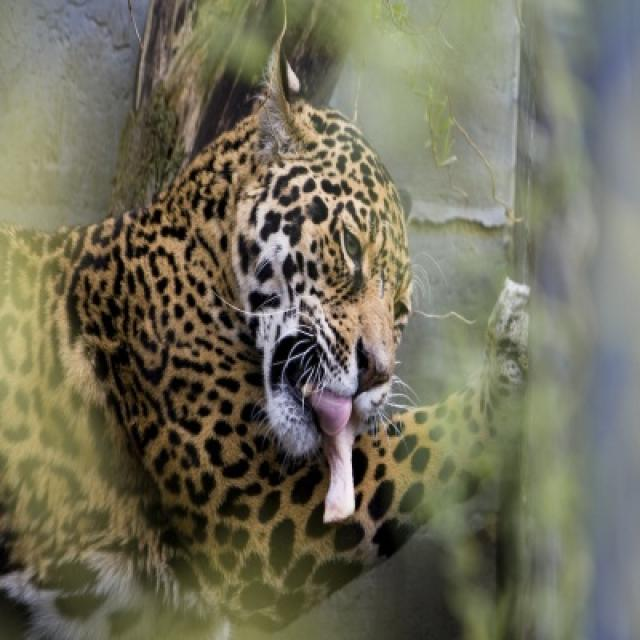not_pig: (0, 6, 531, 638)
